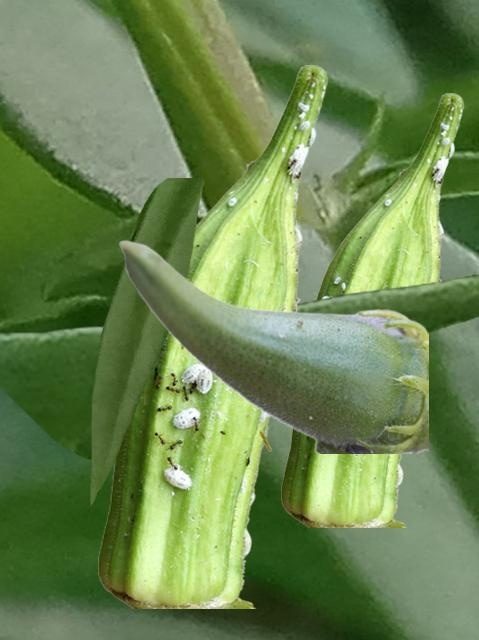okra: (98, 65, 327, 607), (281, 93, 463, 526), (118, 239, 427, 452)
